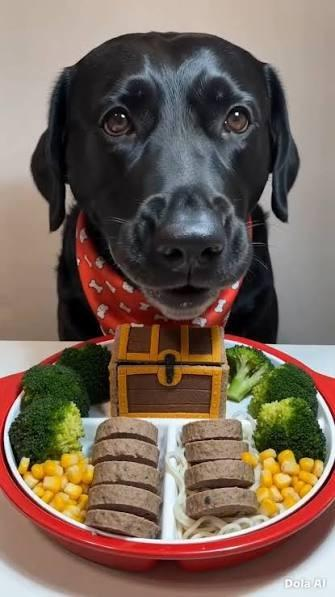adult_dog: (28, 30, 302, 343)
